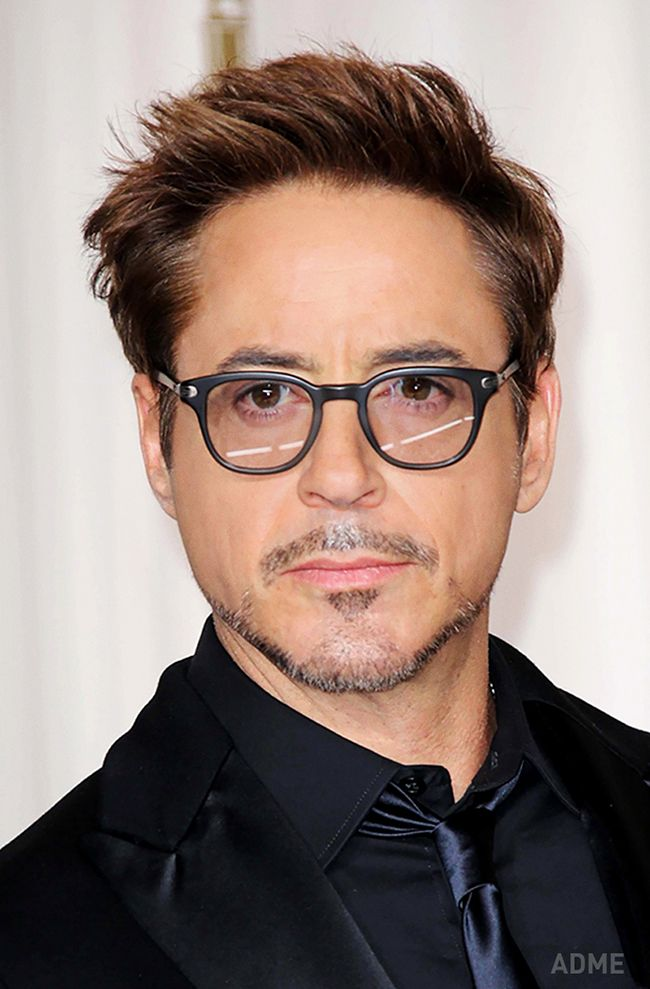glasses: (148, 340, 539, 482)
